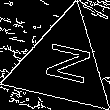N_W: (34, 40, 91, 90)
